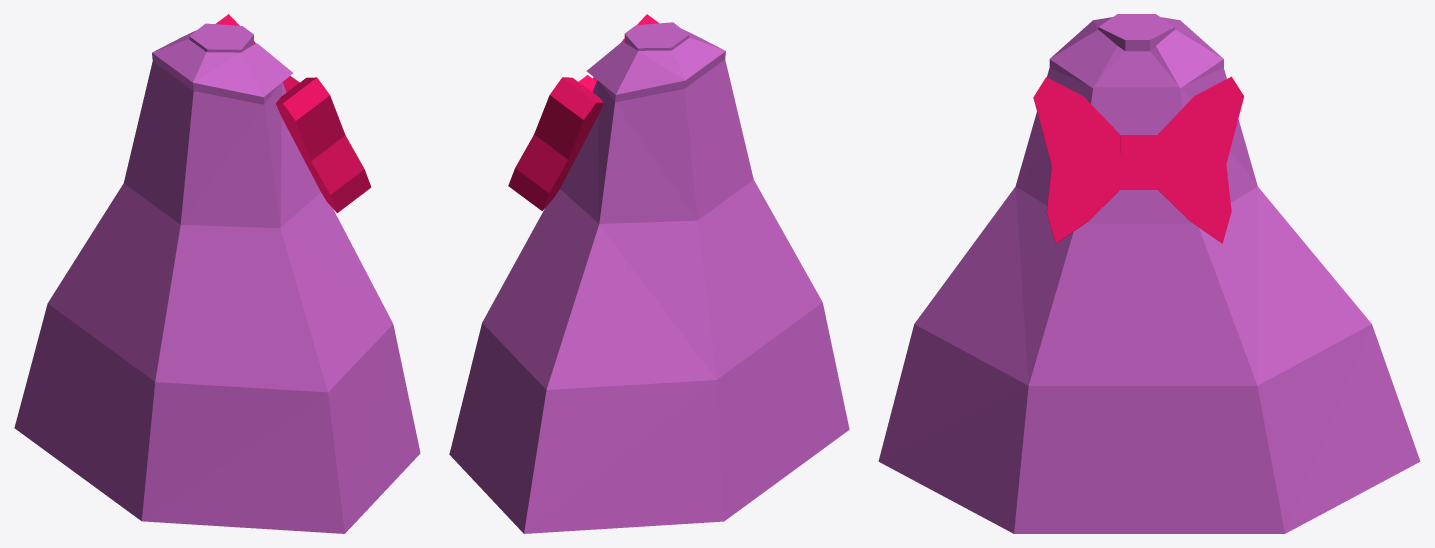
The model's file is player.Body.obj.
3 views of the same model, side by side, from view 1: azimuth 30°, elevation 25°; view 2: azimuth 150°, elevation 25°; view 3: azimuth 270°, elevation 25° (orthographic). The views are drawn at different scales.
Visible parts, largest first — view 1: 体; view 2: 体; view 3: 体.
Part boxes in pixels (x1=…): 体: x1=14, y1=14, x2=420, y2=533; 体: x1=449, y1=14, x2=849, y2=533; 体: x1=878, y1=14, x2=1420, y2=533.
Size of the model in its own units: 0.9561 by 1.34 by 1.51.
